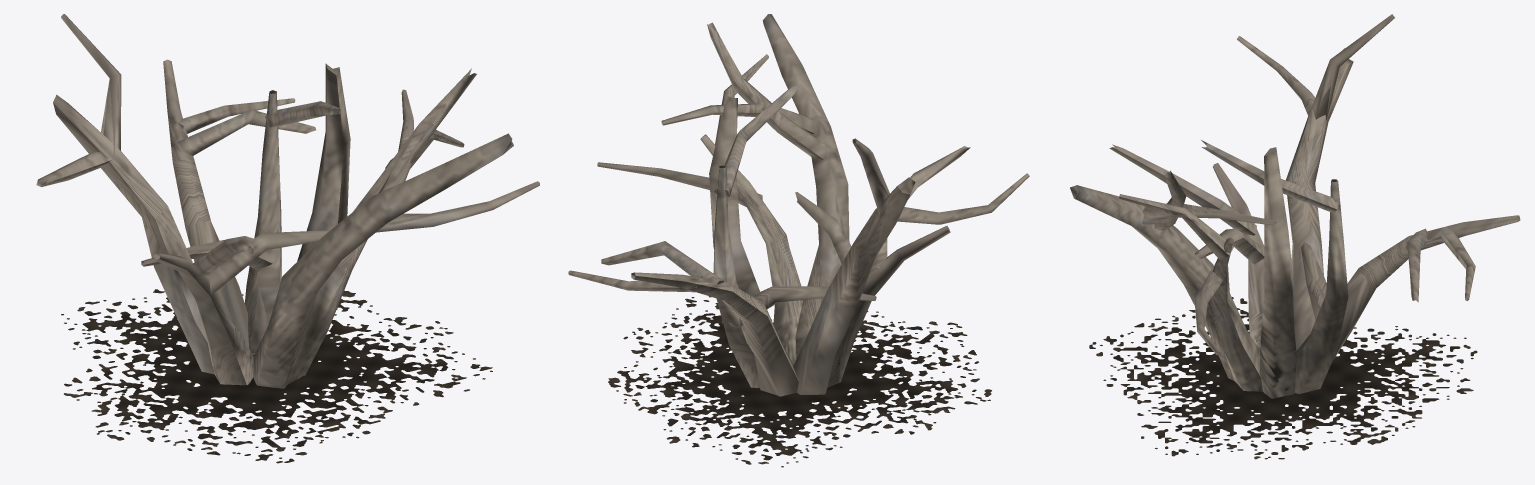
File: bush_dry_02.glb
3 views of the same model, side by side, from view 1: azimuth 30°, elevation 25°; view 2: azimuth 150°, elevation 25°; view 3: azimuth 270°, elevation 25° (orthographic). The views are drawn at different scales.
Visible parts, largest first — view 1: bush_dry_02; view 2: bush_dry_02; view 3: bush_dry_02.
Boxes of the visible parts, x1,y1,x2,y2 form: bush_dry_02: [36, 14, 539, 463]; bush_dry_02: [568, 14, 1029, 467]; bush_dry_02: [1070, 14, 1520, 459].
Size of the model in its own units: 1.08 by 0.7411 by 0.984.
Materials: 2 (2 with a texture image).
